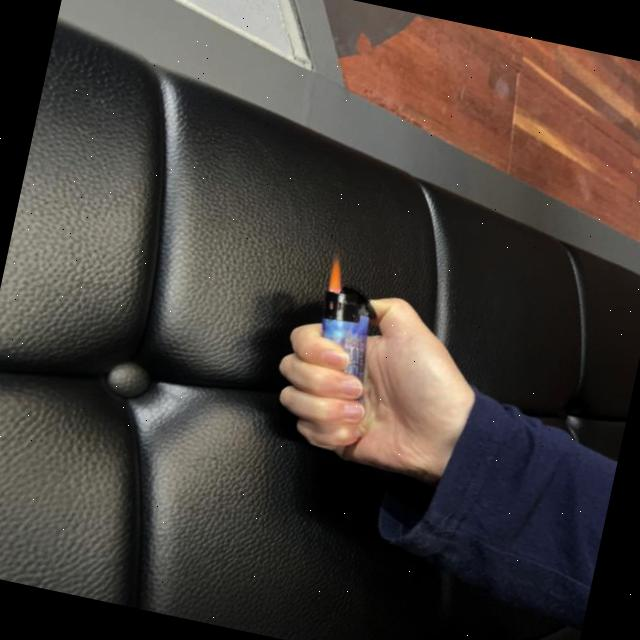fire: (323, 250, 351, 296)
